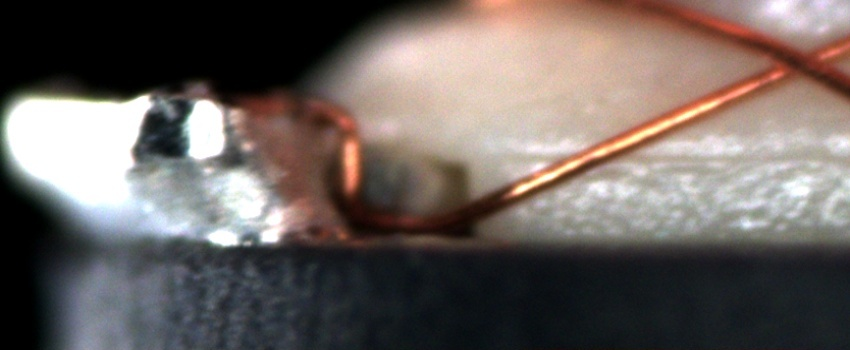CL: (751, 30, 837, 88)
DL: (502, 124, 850, 188)
TE: (278, 88, 379, 218)
